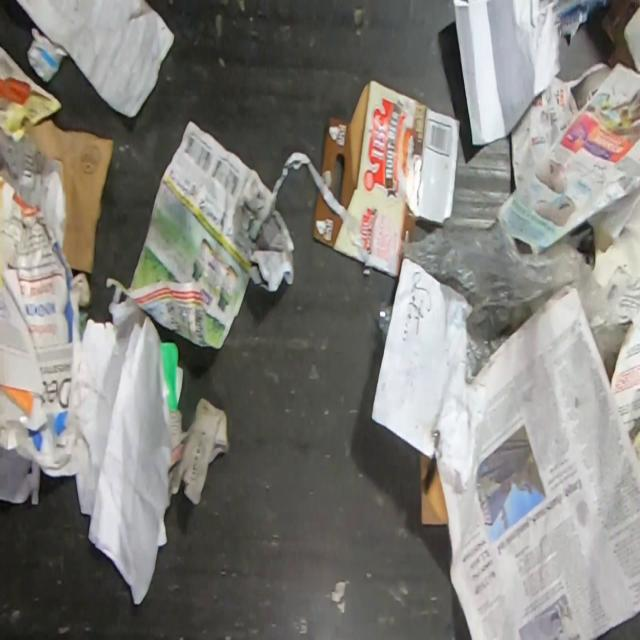cardboard: (319, 77, 460, 276), (0, 115, 115, 276), (310, 185, 364, 262), (414, 448, 448, 525)
soft_plastic: (400, 215, 633, 385), (376, 301, 393, 341)
